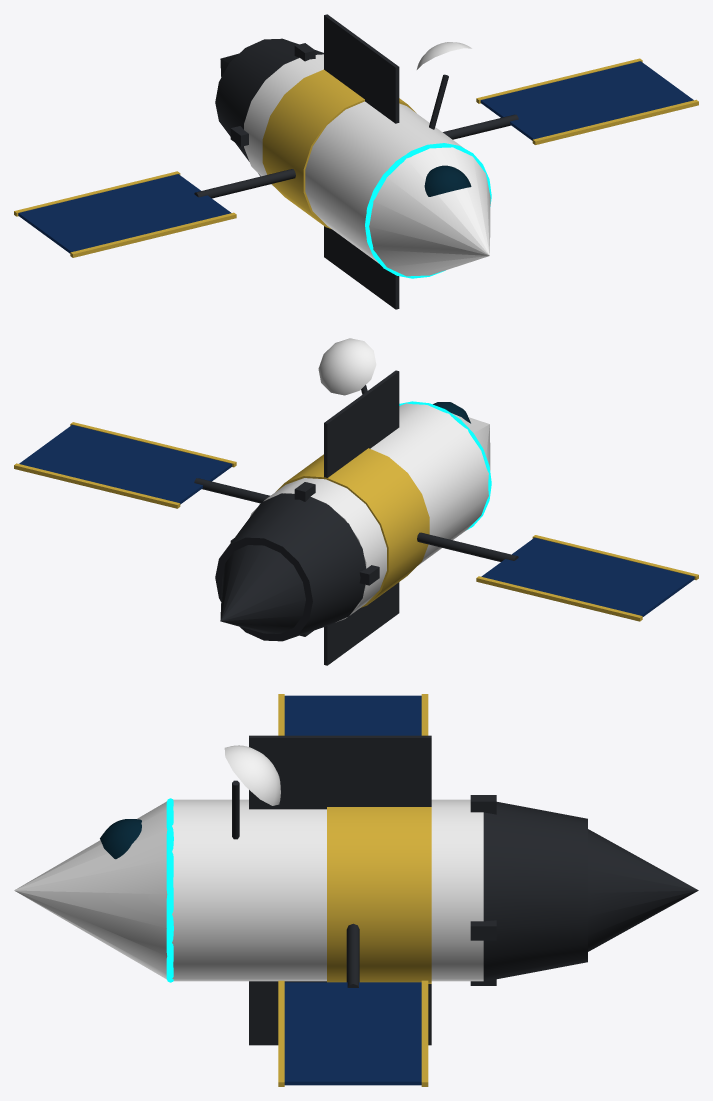
The model's file is ship.glb.
The picture shows the model from 3 angles, top to bottom: view 1: azimuth 30°, elevation 25°; view 2: azimuth 150°, elevation 25°; view 3: azimuth 270°, elevation 25°; orthographic projection. The views are drawn at different scales.
Visible parts, largest first — view 1: Ship_NOVA1; view 2: Ship_NOVA1; view 3: Ship_NOVA1.
Boxes of the visible parts, bbox=[...] form: Ship_NOVA1: bbox=[14, 14, 698, 309]; Ship_NOVA1: bbox=[14, 338, 698, 665]; Ship_NOVA1: bbox=[14, 694, 698, 1086].
Size of the model in its own units: 7.04 by 2.75 by 5.25.
